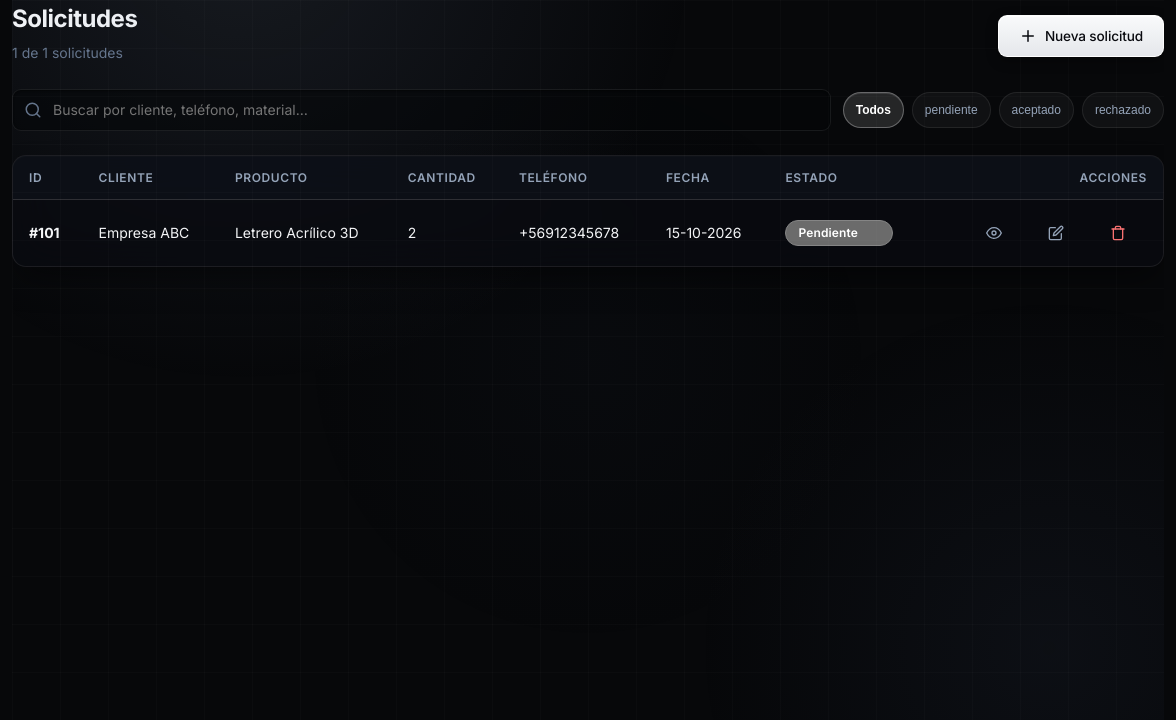
it: SolicitudesPage CRUD Component › filters solicitudes by text search input
Expected: the text "#101" is shown, 29,224 -> 60,241
Type "Inexistente" into the search field named "buscar solicitudes".
click(421, 110); type("Inexistente")  # box 12,89 -> 831,131
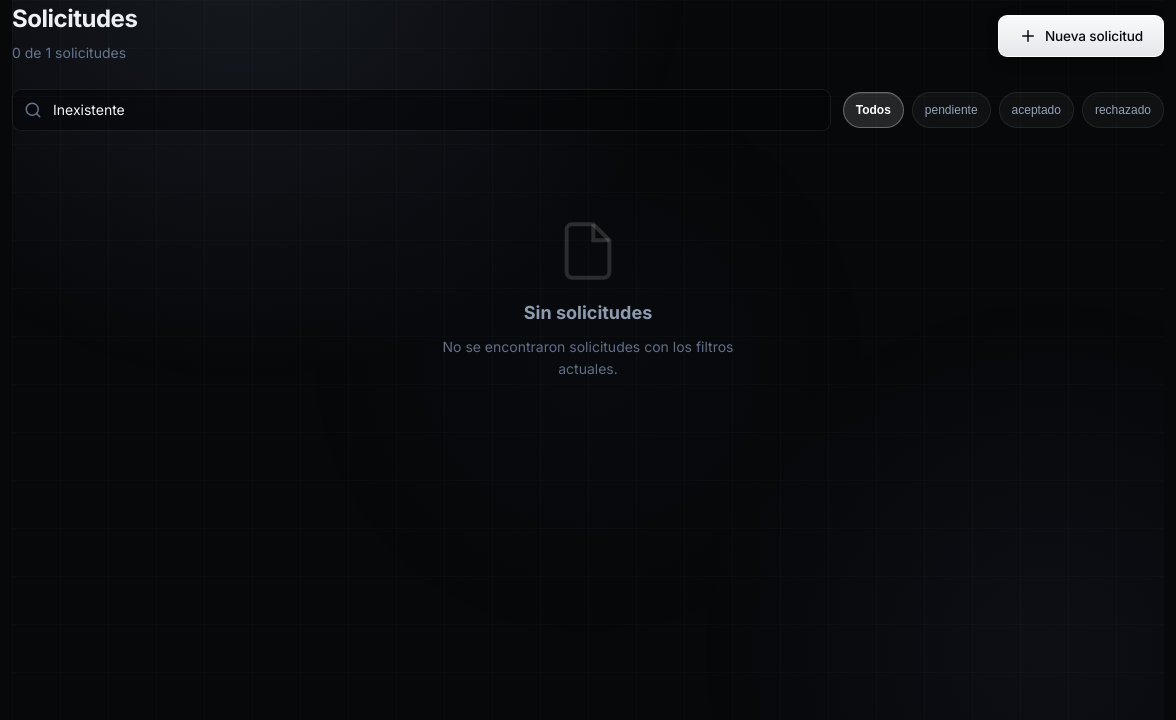
Now the text "No se encontraron solicitudes con los filtros actuales." is shown, box 418,336 -> 758,380
